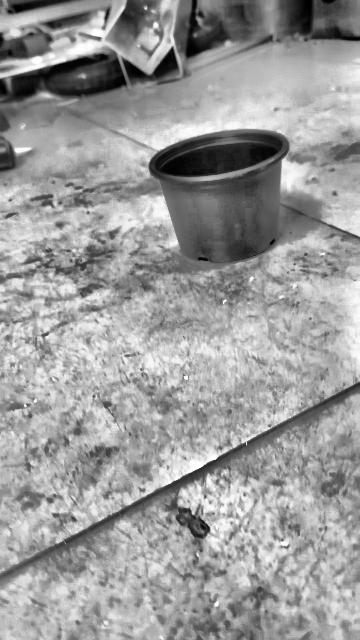pot: (149, 130, 289, 263)
